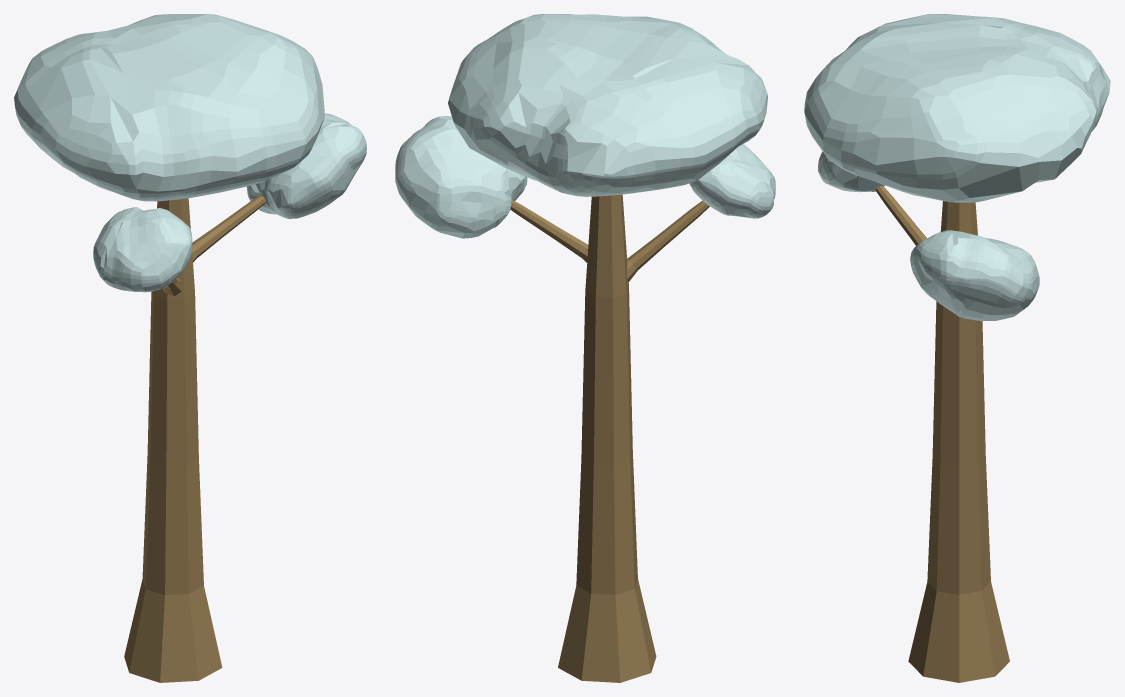
Rendered from Ball tree.fbx.
The picture shows the model from 3 angles, left to right: view 1: azimuth 30°, elevation 25°; view 2: azimuth 150°, elevation 25°; view 3: azimuth 270°, elevation 25°; orthographic projection.
Visible parts, largest first — view 1: pPlatonic4; view 2: pPlatonic4; view 3: pPlatonic4.
Part boxes in pixels (bbox=[...]): pPlatonic4: bbox=[14, 14, 366, 682]; pPlatonic4: bbox=[395, 14, 775, 682]; pPlatonic4: bbox=[804, 14, 1110, 682].
Bounding box in the file's own units: 171 × 309 × 138.
